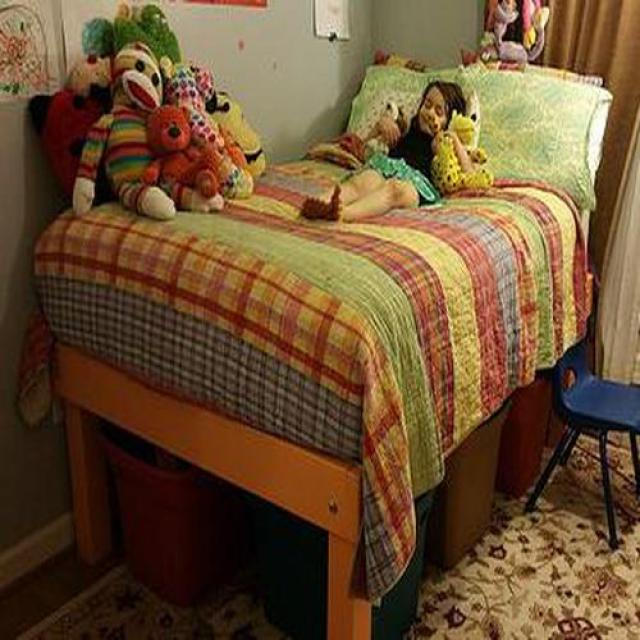bed: (31, 67, 612, 640)
